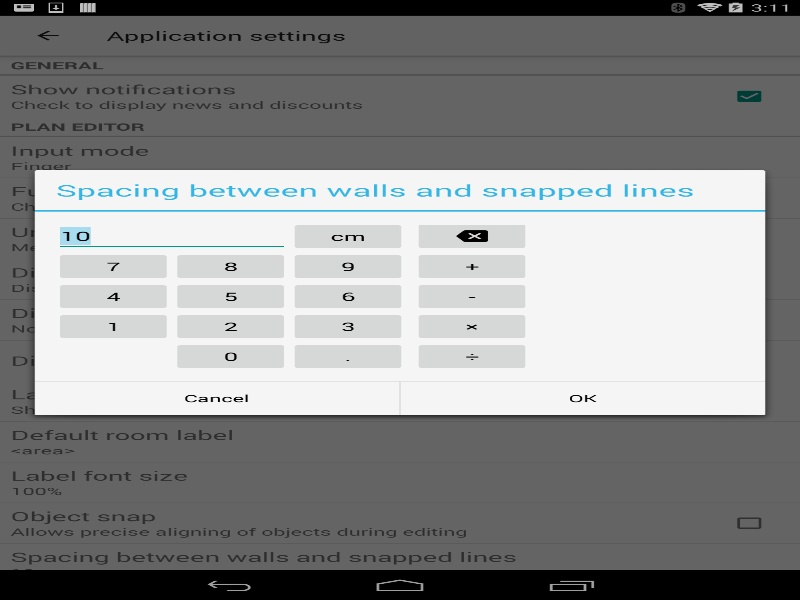Button: (34, 381, 399, 415), (400, 381, 765, 415), (413, 220, 530, 251), (54, 251, 172, 281), (54, 281, 172, 311), (54, 311, 172, 341), (289, 221, 406, 251), (172, 251, 289, 281), (289, 251, 406, 281), (413, 251, 530, 281), (172, 281, 289, 311), (289, 281, 406, 311), (413, 281, 530, 311), (172, 311, 289, 341), (289, 311, 406, 341), (413, 311, 530, 341), (172, 341, 289, 371), (289, 341, 406, 371), (413, 341, 530, 371)
Input: (54, 220, 289, 251)
